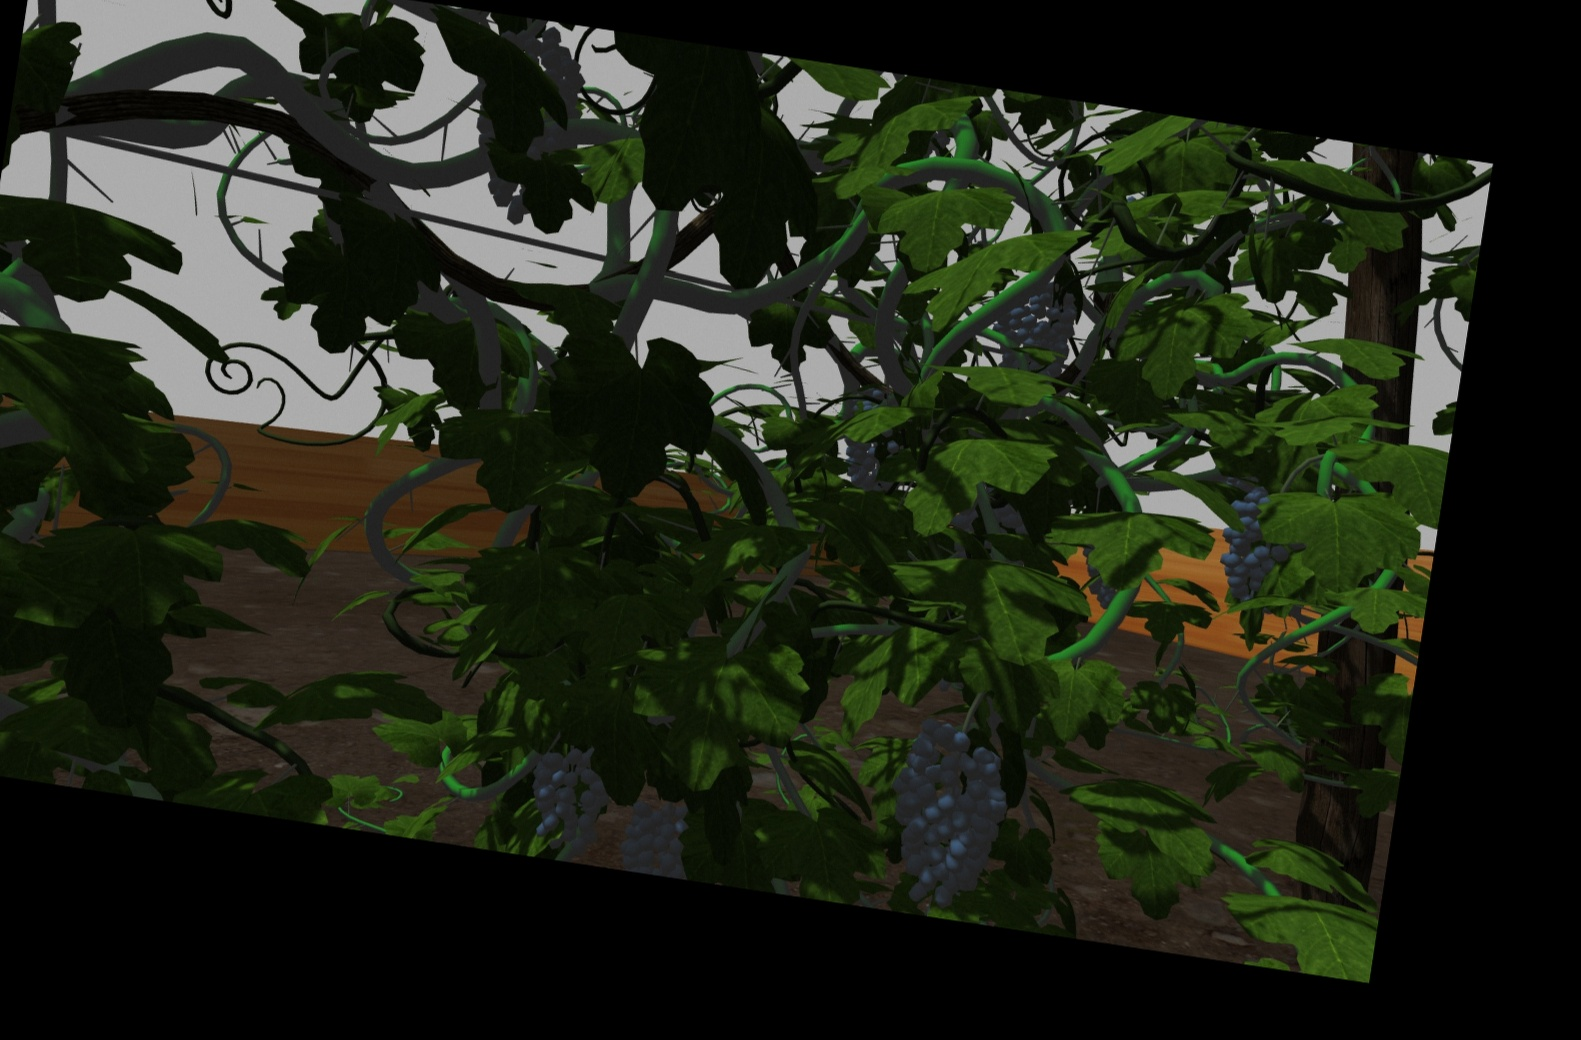grape: (894, 722, 1005, 905), (1220, 485, 1288, 608), (995, 284, 1077, 376), (530, 738, 604, 839), (613, 790, 686, 865)
